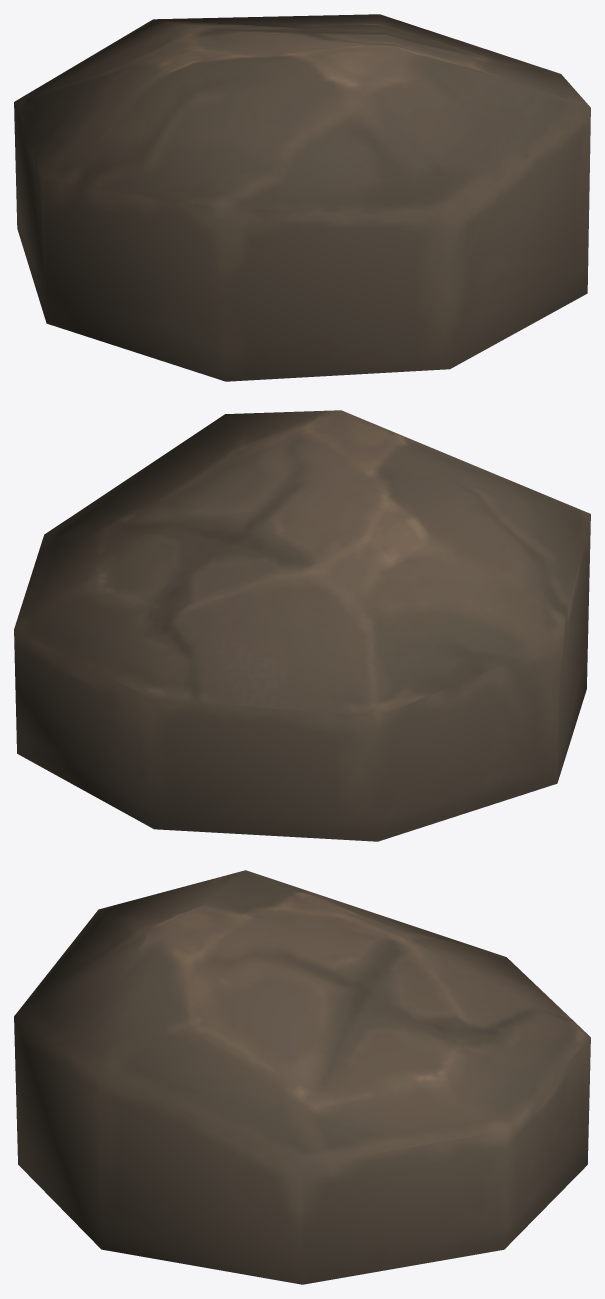
File: sn_longmai_shizhu_008.FBX
3 renders of one model, top to bottom at view 1: azimuth 30°, elevation 25°; view 2: azimuth 150°, elevation 25°; view 3: azimuth 270°, elevation 25°, orthographic. The views are drawn at different scales.
Parts seen in each view (by area): view 1: sn_longmai_shizhu_008; view 2: sn_longmai_shizhu_008; view 3: sn_longmai_shizhu_008.
Part boxes in pixels (x1,y1,x2,y2): sn_longmai_shizhu_008: [14, 14, 590, 381]; sn_longmai_shizhu_008: [14, 410, 590, 841]; sn_longmai_shizhu_008: [14, 870, 590, 1284].
Bounding box in the file's own units: 239 × 112 × 240.
